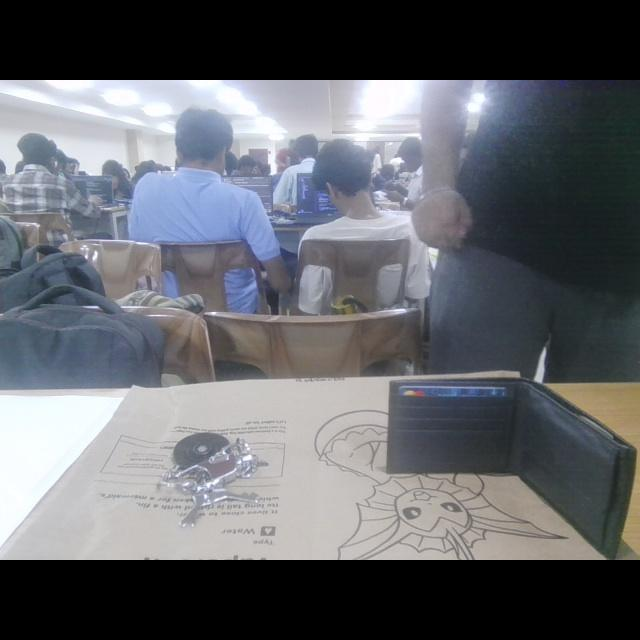keys: (168, 399, 266, 523)
